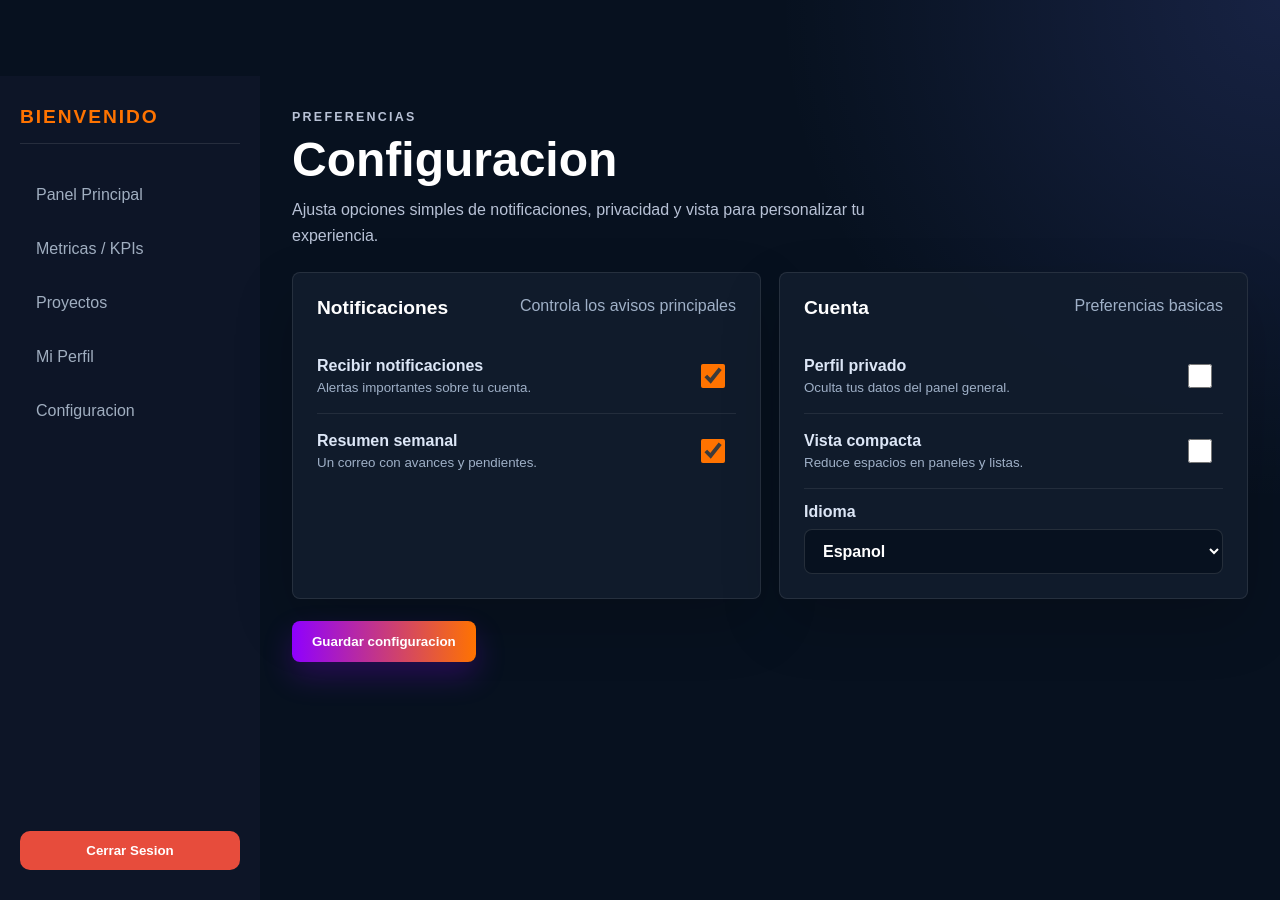
Test: Configuracion › guarda las preferencias modificadas en localStorage al enviar el formulario
Cambiar estados usando interacciones de usuario (activa handleToggle y handleLanguage)
Click the checkbox labelled "Perfil privado Oculta tus datos del panel general." at (1200, 376), box [1177,364,1223,388]
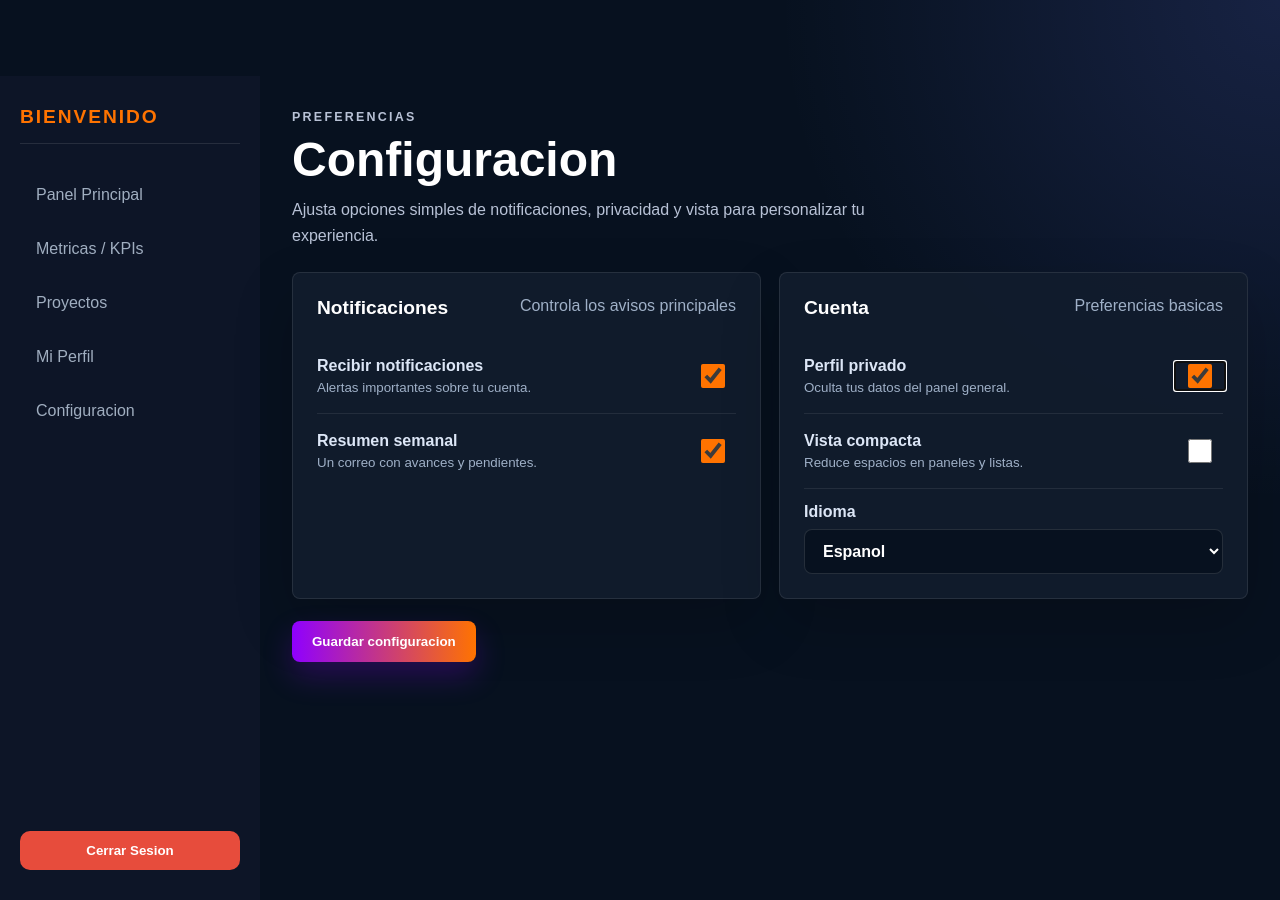
Click the checkbox labelled "Vista compacta Reduce espacios en paneles y listas." at (1200, 451), box [1177,439,1223,463]
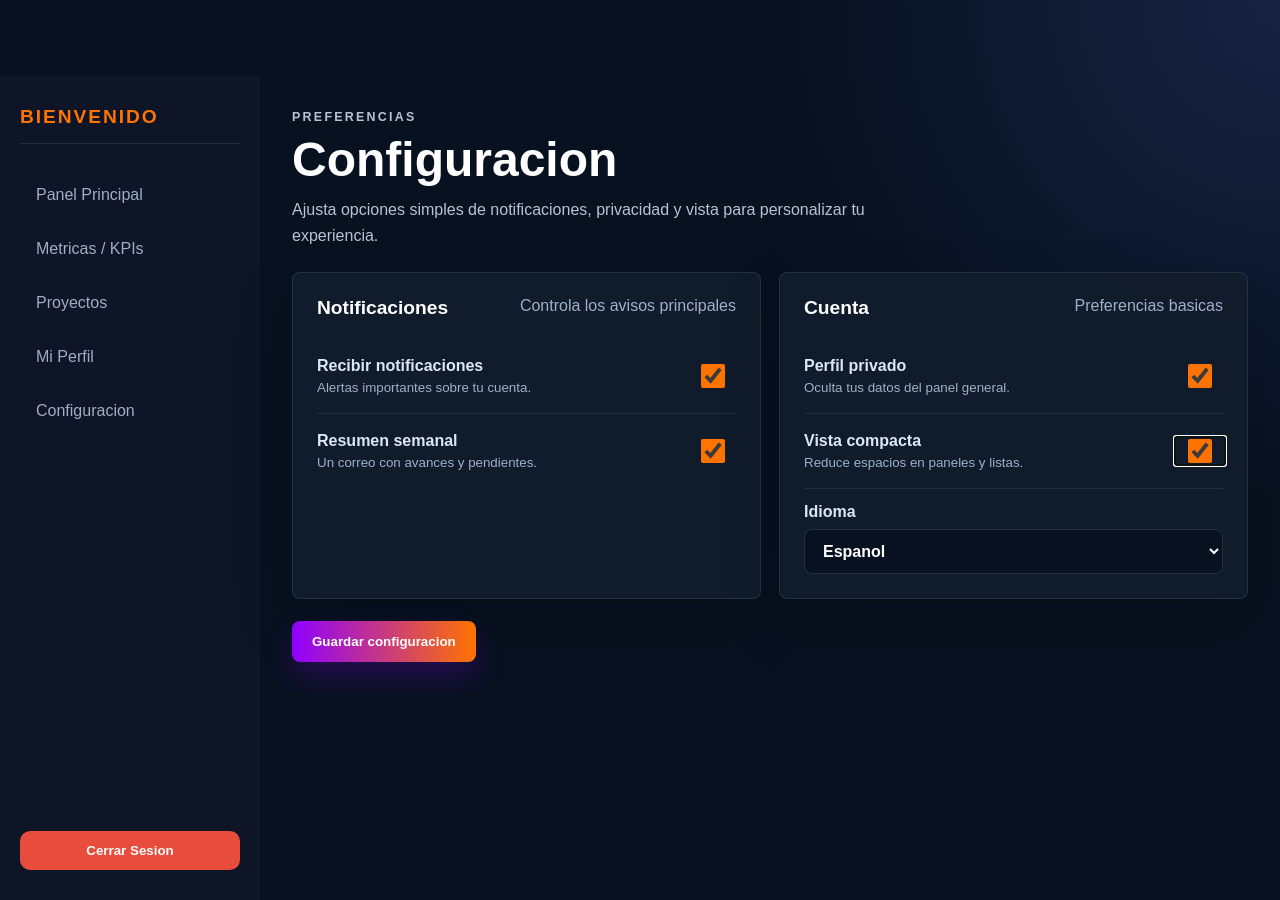
Select "Ingles" in the dropdown labelled "Idioma" at (1014, 552), box [804,529,1223,574]
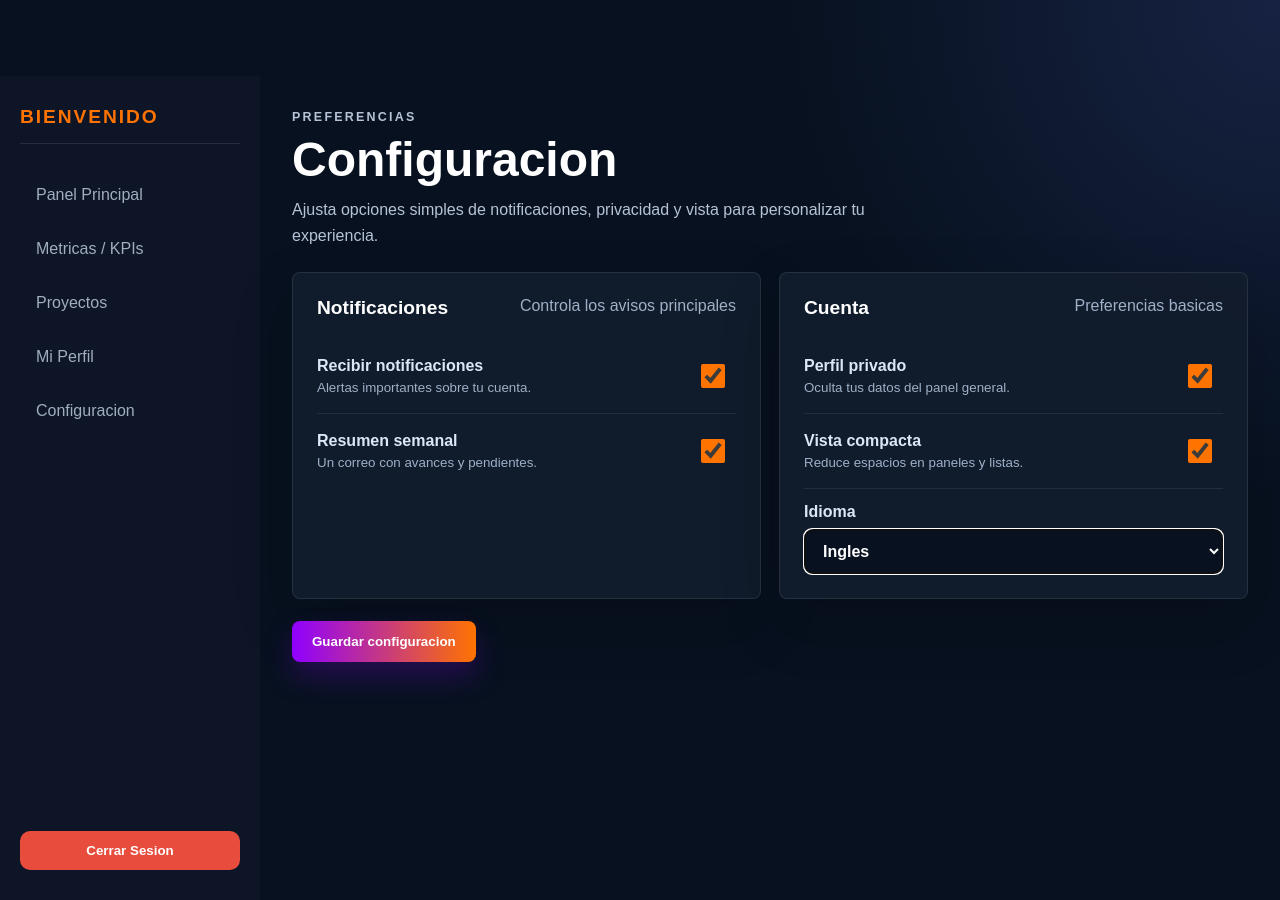
Enviar formulario (activa handleSubmit)
Click the button "Guardar configuracion" at (384, 642), box [292,621,476,662]
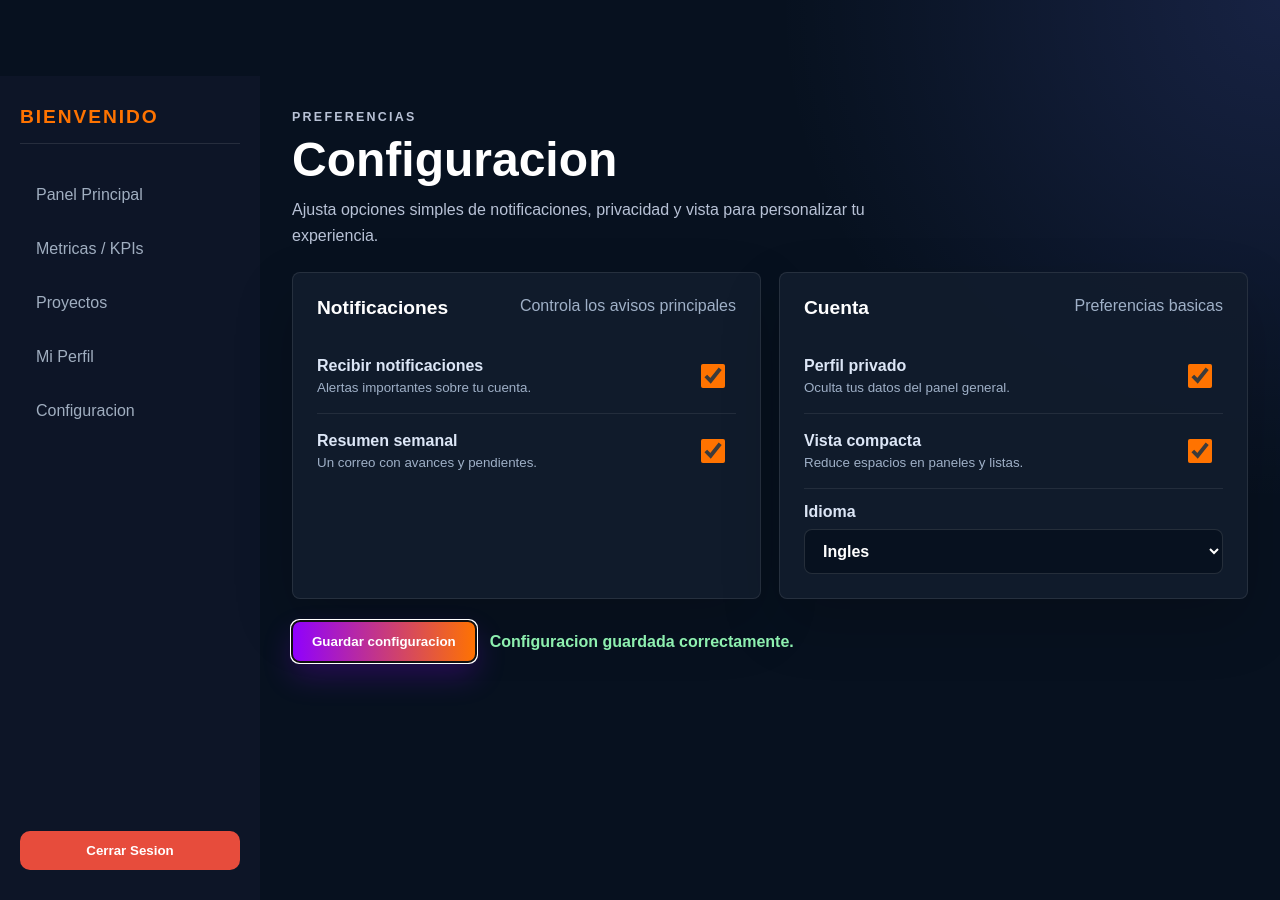
Result: the text "Configuracion guardada correctamente." is shown at [490,633,794,651]
